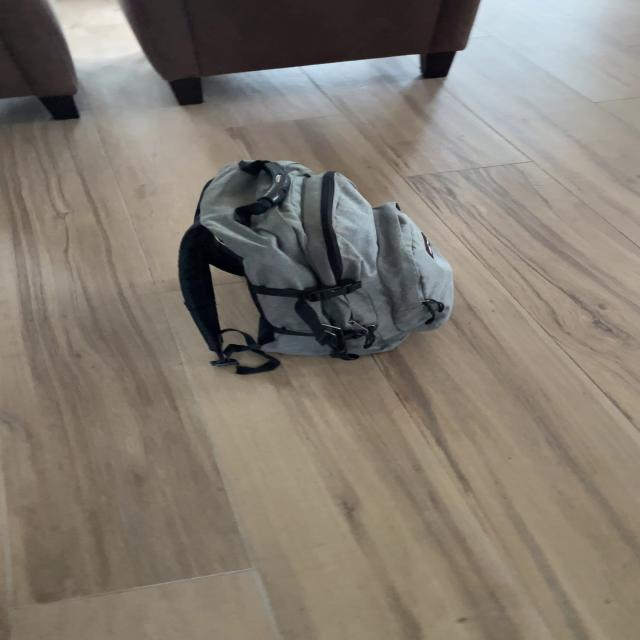backpack: (152, 153, 460, 383)
